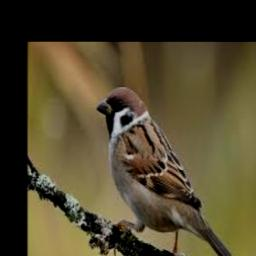Sparrow: (96, 87, 238, 256)
